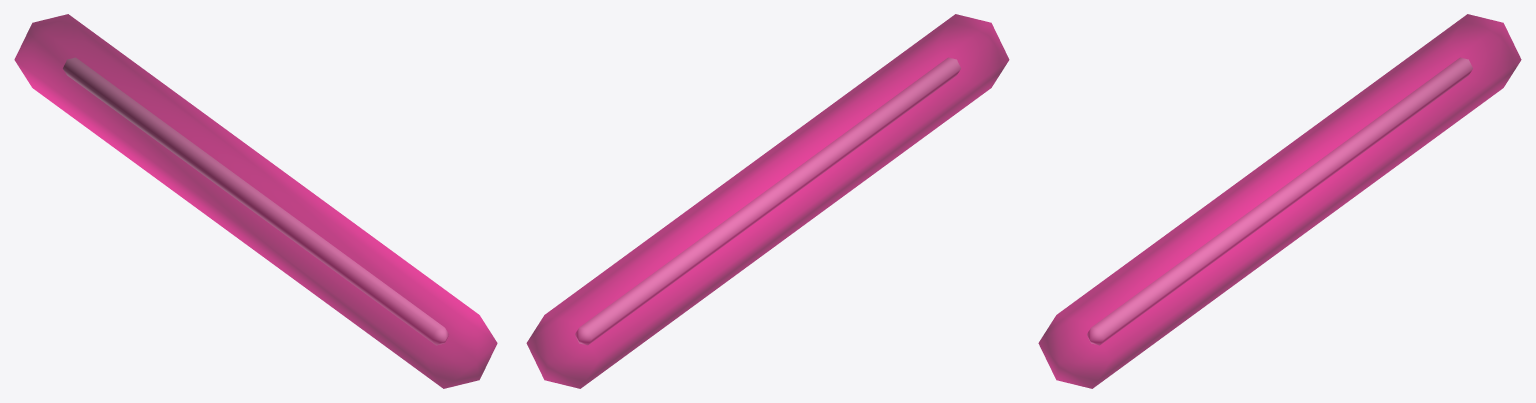
The model's file is salmon_turret_laser_model.fbx.
3 views of the same model, side by side, from view 1: azimuth 30°, elevation 25°; view 2: azimuth 150°, elevation 25°; view 3: azimuth 330°, elevation 25° (orthographic).
Parts seen in each view (by area): view 1: glow, bolt; view 2: glow, bolt; view 3: glow, bolt.
Part boxes in pixels (bbox=[...]): glow: bbox=[14, 14, 497, 388]; bolt: bbox=[63, 57, 448, 345]; glow: bbox=[526, 14, 1009, 388]; bolt: bbox=[575, 57, 960, 345]; glow: bbox=[1038, 14, 1521, 388]; bolt: bbox=[1087, 57, 1472, 345].
Size of the model in its own units: 7.56 by 6.55 by 80.08.
